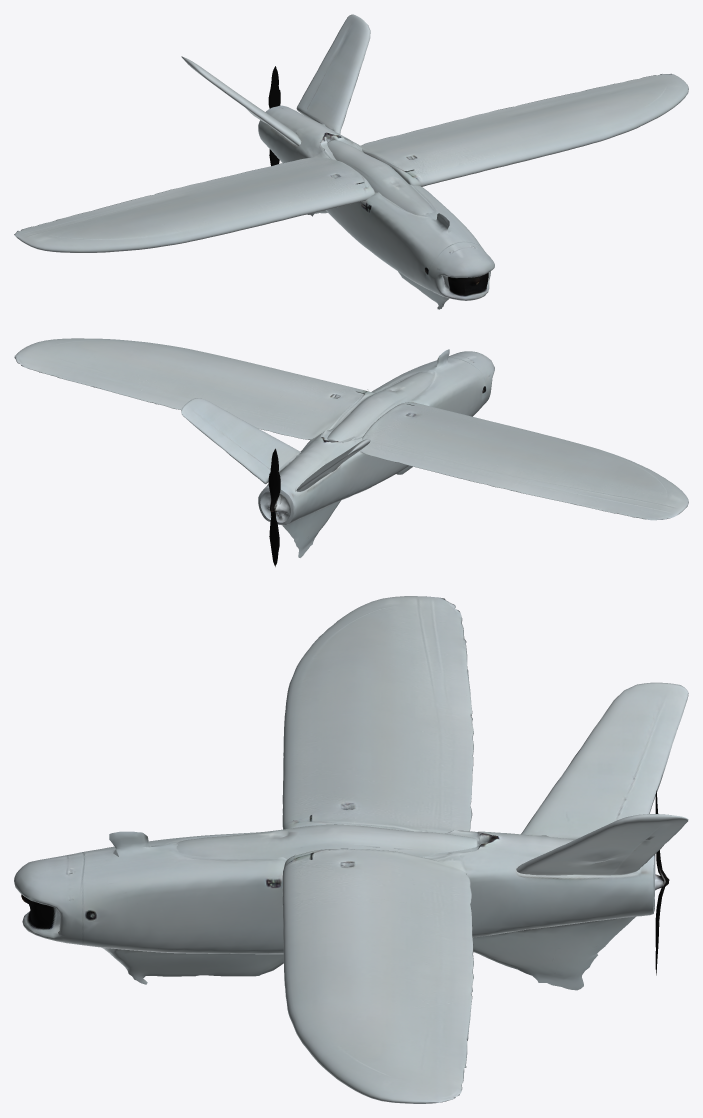
Rendered from leleka_100.glb.
The picture shows the model from 3 angles, top to bottom: view 1: azimuth 30°, elevation 25°; view 2: azimuth 150°, elevation 25°; view 3: azimuth 270°, elevation 25°; orthographic projection. The views are drawn at different scales.
Visible parts, largest first — view 1: Object_4, Object_3, Object_2; view 2: Object_4, Object_3, Object_2; view 3: Object_4, Object_2, Object_3.
Boxes of the visible parts, box(x1,y1,x2,y2) form: Object_4: box(14, 14, 434, 252); Object_3: box(296, 73, 688, 186); Object_2: box(258, 105, 494, 309); Object_4: box(181, 372, 688, 566); Object_3: box(14, 338, 374, 484); Object_2: box(258, 349, 494, 557); Object_4: box(176, 596, 688, 975); Object_2: box(14, 830, 663, 990); Object_3: box(282, 848, 473, 1103).
Bounding box in the file's own units: 1.9 × 0.4222 × 1.07.
Materials: 1 (1 with a texture image).
